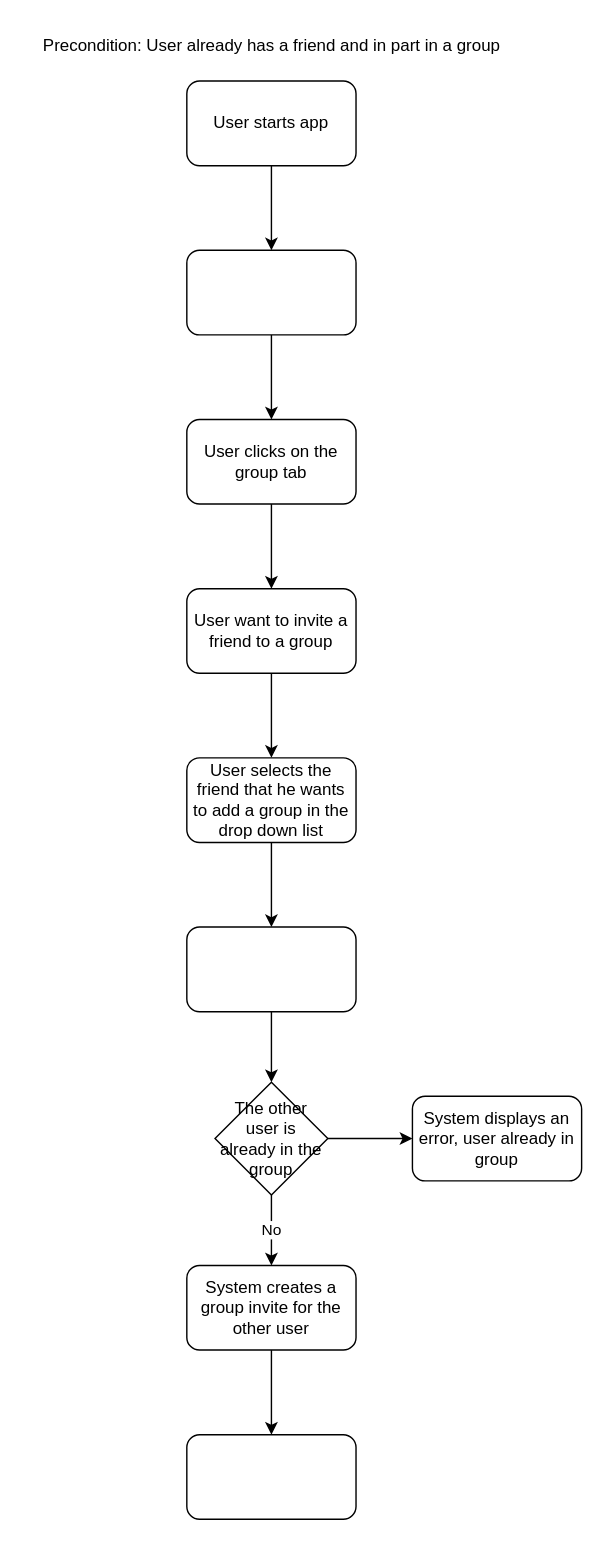
This 606x1544 diagram has some shape labels left out. The centre of each missing label's shape, as x and y in pixels:
"System displays that the user was invited to the group" goes at [270,1476].
"User presses the invite to group button of the group he want to invite him to" goes at [270,969].
"User successfully logged in" goes at [270,292].
